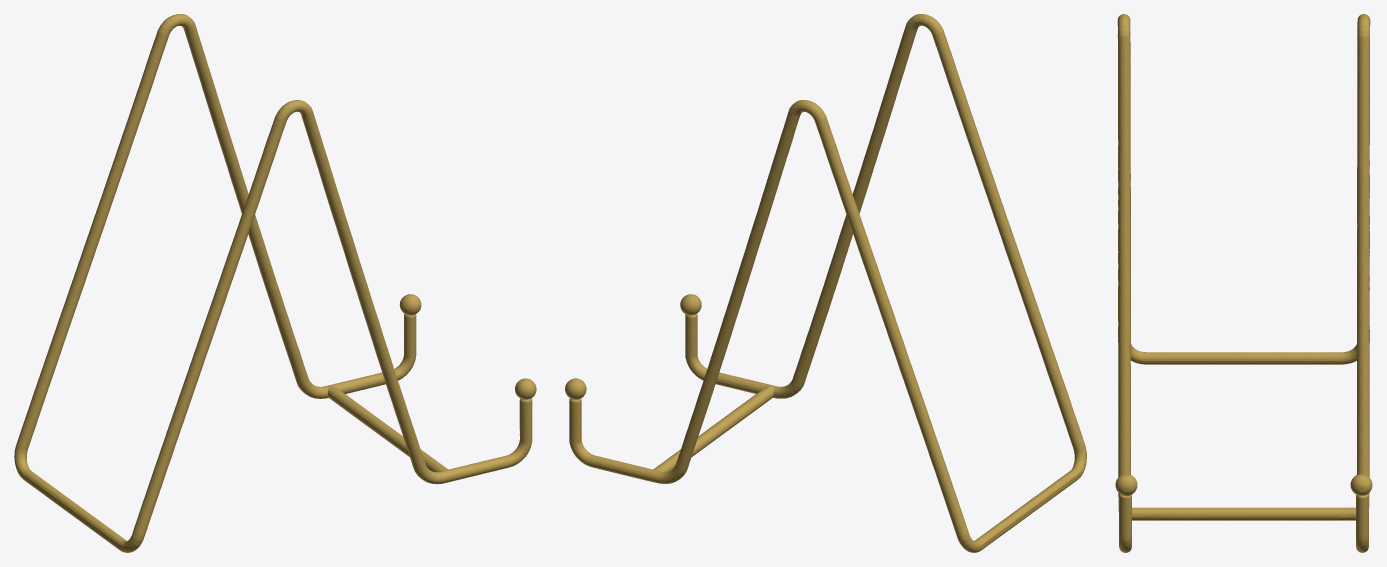
File: gold+wire+hanger+3d+model.glb
The picture shows the model from 3 angles, left to right: view 1: azimuth 30°, elevation 25°; view 2: azimuth 150°, elevation 25°; view 3: azimuth 270°, elevation 25°; orthographic projection. The views are drawn at different scales.
Visible parts, largest first — view 1: tripo_node_8f91a1d8-f5b9-4bb1-ad78-87cd2cc85882; view 2: tripo_node_8f91a1d8-f5b9-4bb1-ad78-87cd2cc85882; view 3: tripo_node_8f91a1d8-f5b9-4bb1-ad78-87cd2cc85882.
Boxes of the visible parts, <box> form: tripo_node_8f91a1d8-f5b9-4bb1-ad78-87cd2cc85882: <box>14,14,536,552</box>; tripo_node_8f91a1d8-f5b9-4bb1-ad78-87cd2cc85882: <box>565,14,1086,552</box>; tripo_node_8f91a1d8-f5b9-4bb1-ad78-87cd2cc85882: <box>1115,14,1372,552</box>.
Bounding box in the file's own units: 1 × 0.9849 × 0.5365.
Materials: 1 (1 with a texture image).
